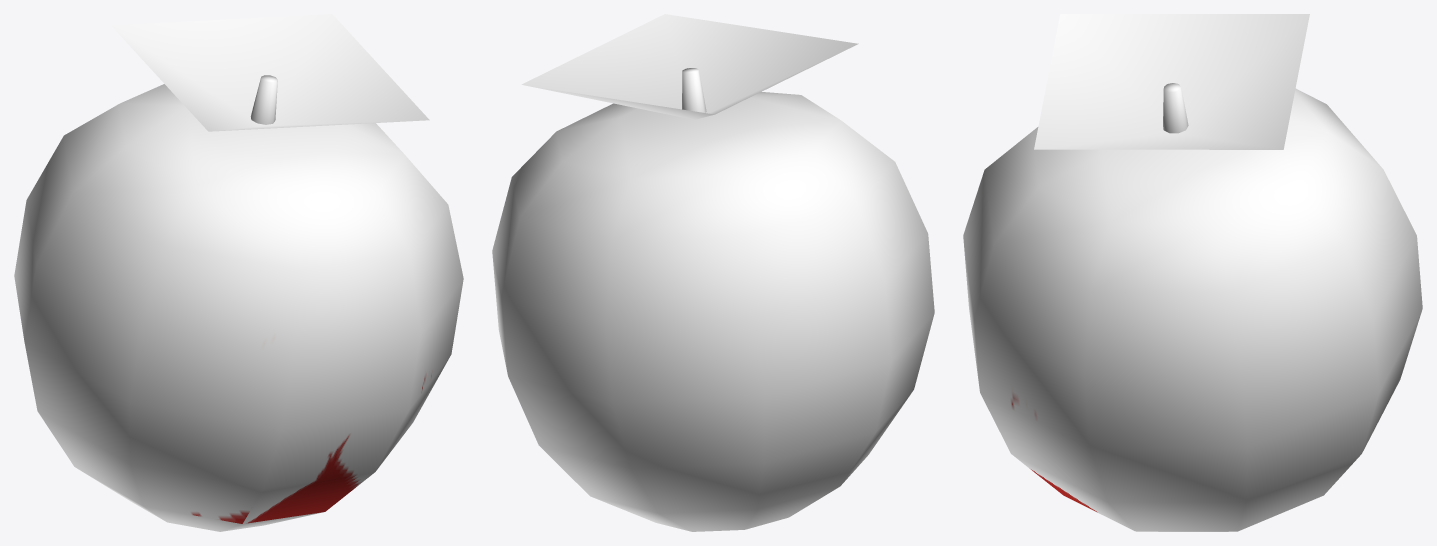
The model's file is Tomato.dae.
3 renders of one model, left to right at view 1: azimuth 30°, elevation 25°; view 2: azimuth 150°, elevation 25°; view 3: azimuth 270°, elevation 25°, orthographic. The views are drawn at different scales.
Visible parts, largest first — view 1: Plane-001; view 2: Plane-001; view 3: Plane-001.
Part boxes in pixels (x1,y1,x2,y2): Plane-001: (14,14,463,531); Plane-001: (492,14,934,531); Plane-001: (963,14,1422,531).
Bounding box in the file's own units: 0.4652 × 0.5209 × 0.4609.
Materials: 1 (1 with a texture image).
